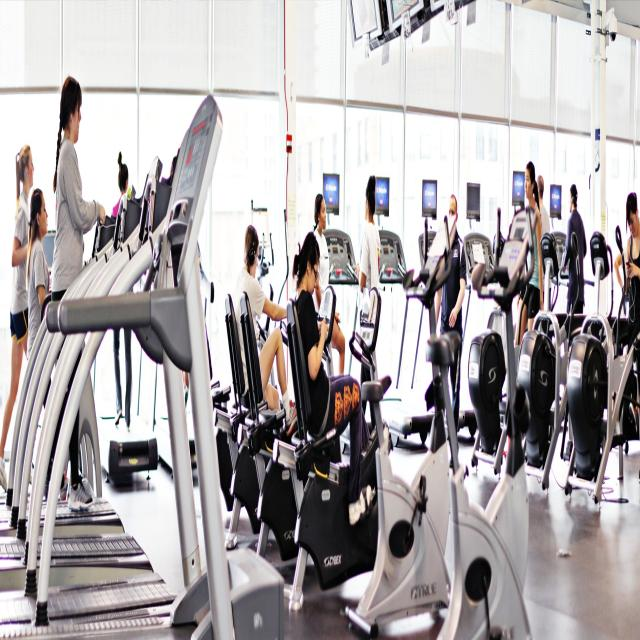body: (48, 68, 106, 512), (292, 228, 374, 528), (233, 222, 304, 442), (26, 186, 70, 503), (0, 143, 34, 492), (428, 188, 466, 477), (353, 174, 381, 430), (311, 192, 346, 376), (110, 150, 132, 432), (170, 142, 189, 440), (514, 160, 544, 348), (624, 190, 640, 410), (561, 182, 587, 315), (536, 174, 554, 346), (612, 227, 632, 308), (614, 408, 622, 438)
